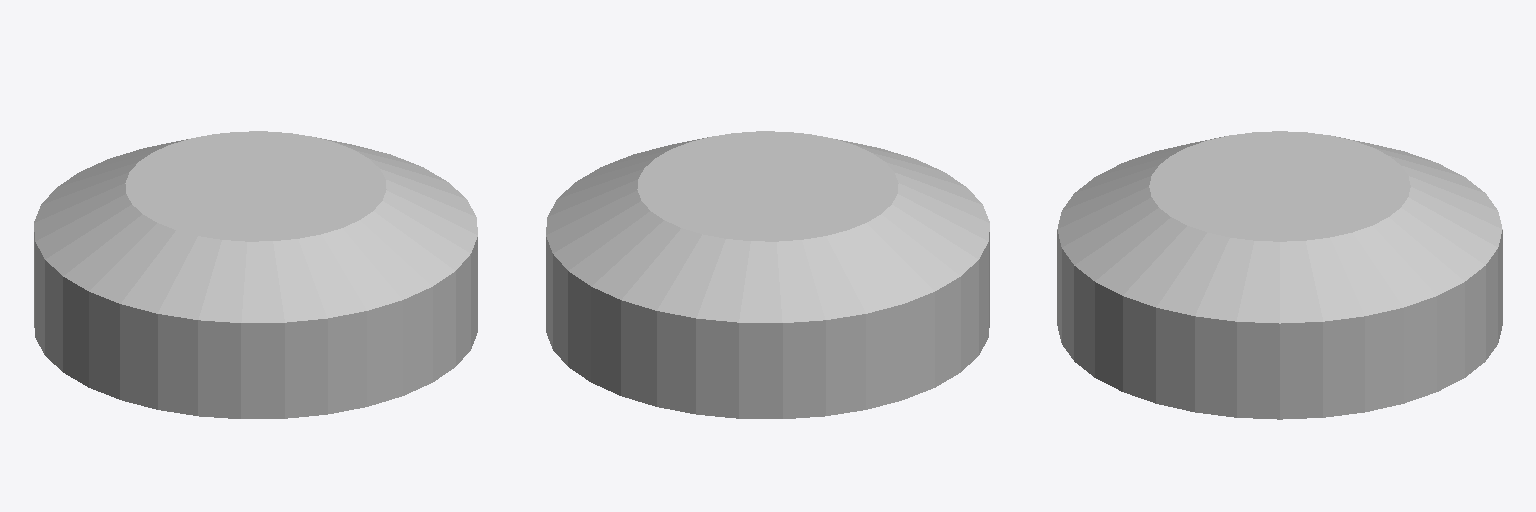
File: dial.obj
The picture shows the model from 3 angles: view 1: azimuth 30°, elevation 25°; view 2: azimuth 150°, elevation 25°; view 3: azimuth 270°, elevation 25°; orthographic projection.
Parts seen in each view (by area): view 1: Dial_DialMesh; view 2: Dial_DialMesh; view 3: Dial_DialMesh.
Boxes of the visible parts, x1=… form: Dial_DialMesh: x1=34, y1=131, x2=477, y2=418; Dial_DialMesh: x1=546, y1=131, x2=989, y2=418; Dial_DialMesh: x1=1057, y1=131, x2=1502, y2=419.
Size of the model in its own units: 2.66 by 0.9179 by 2.66.